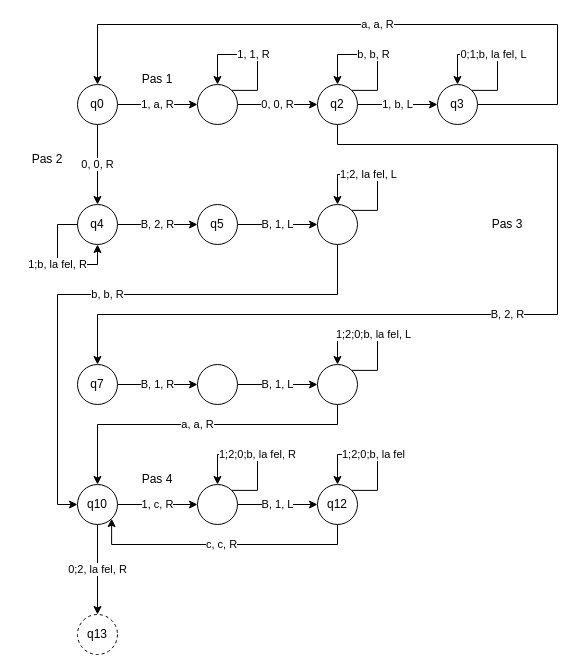
The diagram is 583 pixels wide and 672 high, and some of its shapes have lost their labels. Here are the shapes that lost their labels. From the top down, the box of each, then its label:
(196, 84, 238, 124): q1
(316, 204, 358, 244): q6
(196, 364, 238, 404): q8
(316, 364, 358, 404): q9
(196, 484, 238, 524): q11
